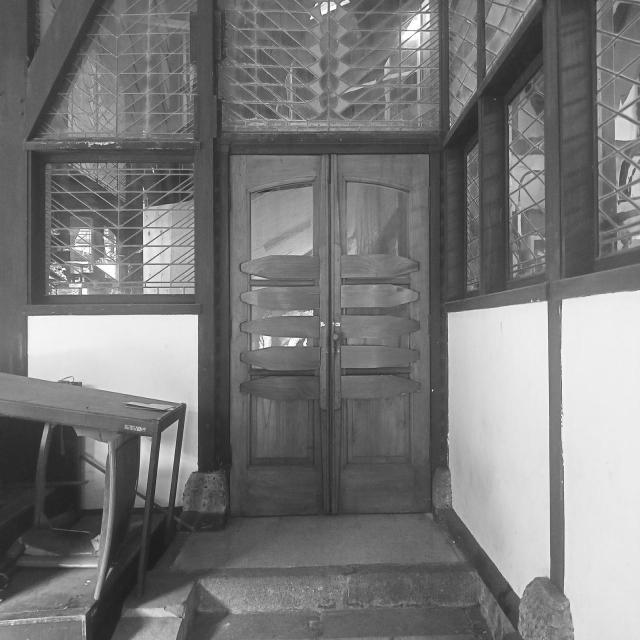door: (224, 149, 434, 521)
